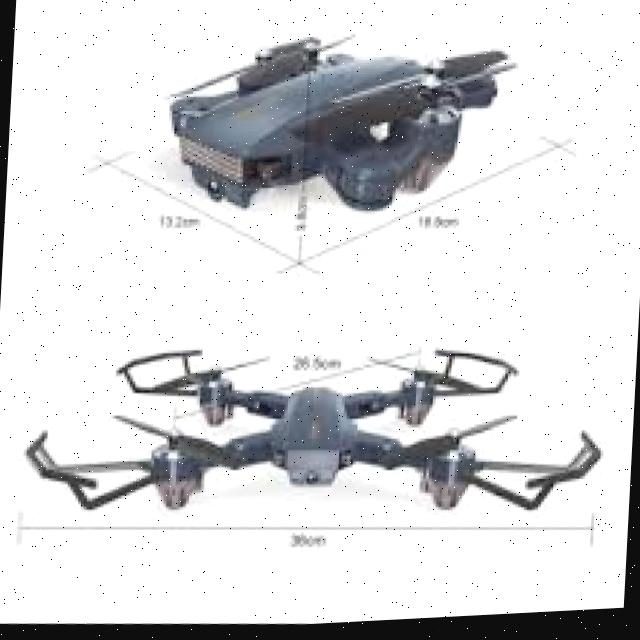drone: (8, 308, 604, 566)
